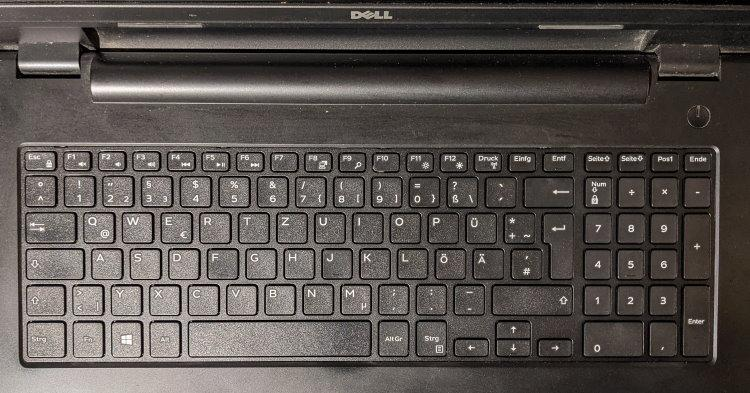0: (406, 175, 440, 207)
1: (62, 173, 95, 206)
2: (100, 174, 134, 206)
3: (138, 174, 173, 206)
4: (179, 174, 211, 206)
5: (217, 174, 250, 206)
6: (256, 174, 289, 206)
7: (294, 175, 326, 206)
8: (331, 175, 364, 207)
9: (369, 175, 402, 207)
a: (89, 246, 122, 279)
accent: (483, 175, 516, 206)
ae: (471, 246, 504, 279)
alt-left: (148, 320, 180, 357)
altgr-right: (376, 318, 409, 356)
b: (262, 283, 295, 315)
c: (186, 282, 219, 315)
caret: (23, 173, 56, 206)
comma: (376, 282, 409, 314)
d: (167, 246, 200, 279)
del: (522, 174, 573, 207)
e: (159, 210, 192, 243)
enter: (540, 209, 573, 279)
f: (205, 247, 238, 279)
g: (244, 247, 276, 278)
h: (282, 247, 315, 279)
hash: (509, 247, 541, 279)
i: (351, 210, 384, 243)
j: (320, 246, 352, 278)
k: (358, 247, 391, 279)
keyboard: (14, 143, 721, 368)
l: (395, 246, 428, 279)
less: (70, 282, 104, 315)
m: (338, 282, 371, 315)
minus: (451, 283, 485, 314)
n: (300, 282, 334, 315)
o: (388, 210, 421, 243)
oe: (433, 247, 466, 279)
p: (426, 211, 458, 243)
plus: (502, 210, 535, 243)
point: (414, 282, 447, 314)
q: (81, 210, 115, 243)
r: (197, 211, 231, 243)
s: (128, 247, 161, 279)
shift-left: (23, 282, 64, 316)
shift-lock: (23, 246, 84, 279)
shift-right: (490, 282, 573, 315)
space: (186, 318, 371, 357)
ss: (445, 175, 478, 207)
strg-left: (22, 319, 66, 359)
strg-right: (414, 318, 447, 356)
t: (237, 210, 269, 243)
tab: (23, 209, 76, 243)
u: (313, 210, 345, 244)
ue: (463, 210, 497, 243)
v: (224, 282, 257, 315)
w: (120, 210, 154, 243)
x: (147, 282, 181, 315)
y: (109, 283, 142, 316)
z: (275, 210, 308, 243)
